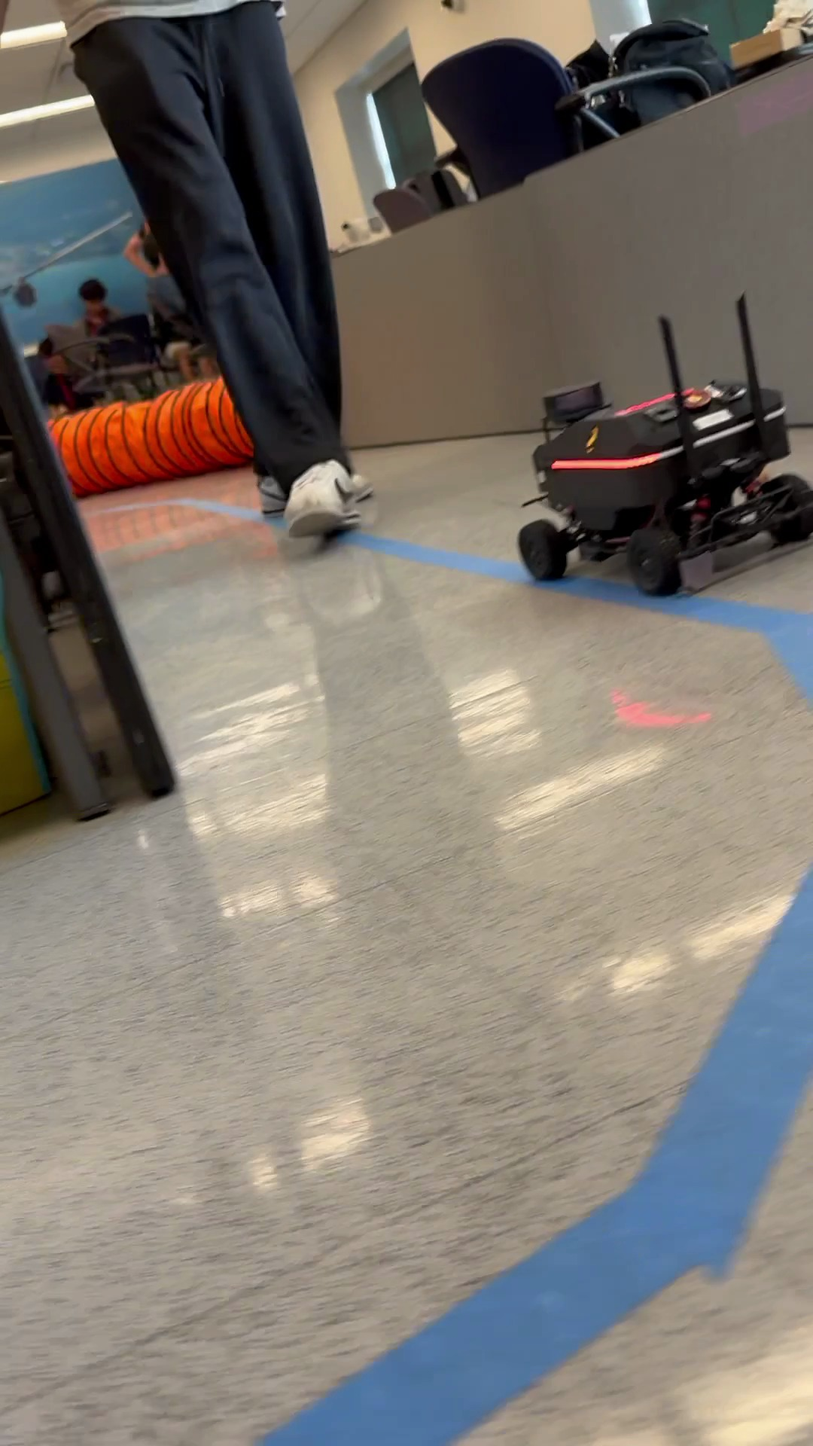racecar: (516, 296, 813, 596)
